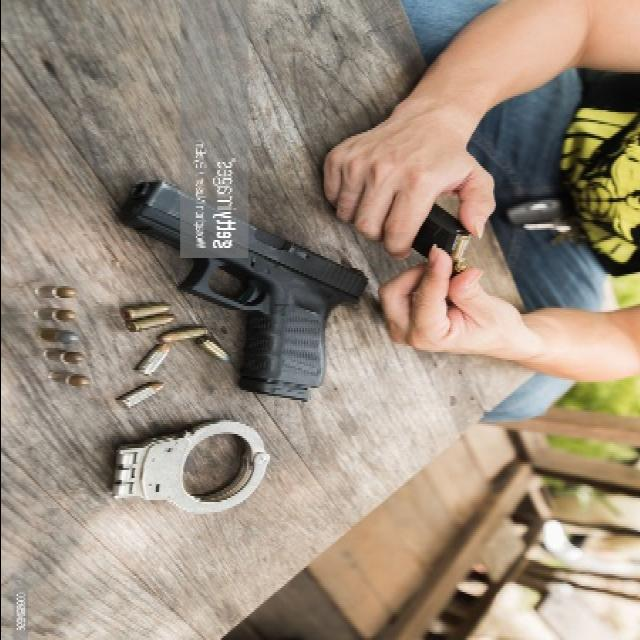handgun: (119, 179, 372, 407)
